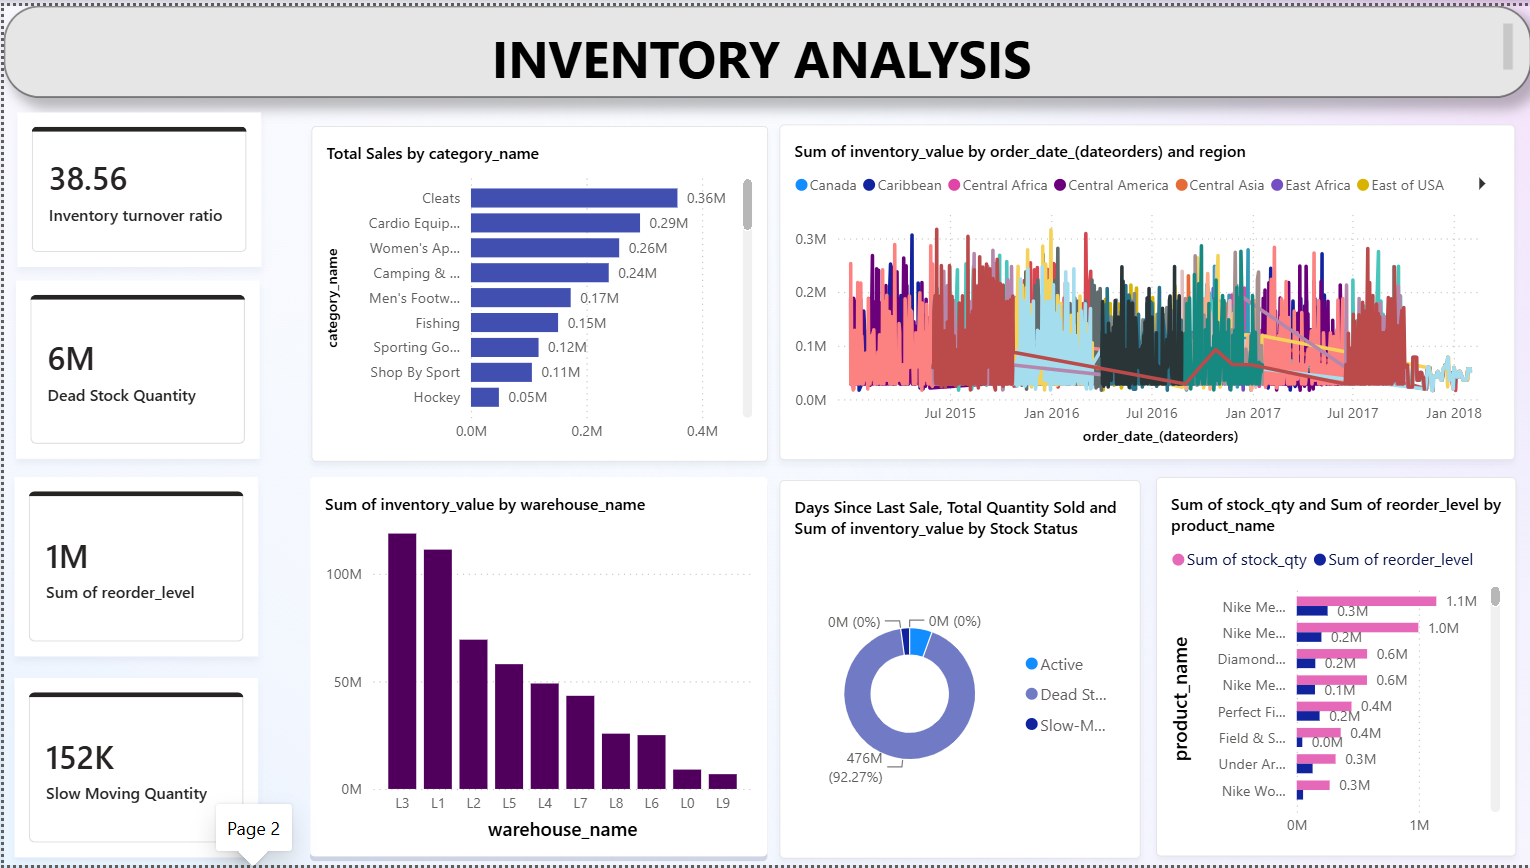

The dashboard page shown, as its layout file describes it:
{"tool":"powerbi","page":{"name":"Page 2","canvas":[1280,720],"ordinal":1},"visuals":[{"type":"textbox","box":[0,0,1279.9,76.7],"z":0},{"type":"cardVisual","fields":{"Data":["Fact_table.Inventory turnover ratio"]},"box":[11.3,89.3,204.9,129.5],"z":1000},{"type":"cardVisual","fields":{"Data":["Fact_table.Dead Stock Quantity"]},"box":[10.1,230.1,204.9,149.6],"z":2000},{"type":"cardVisual","fields":{"Data":["Sum(Fact_table.reorder_level)"]},"box":[8.8,394.8,204.9,150.9],"z":3000},{"type":"cardVisual","fields":{"Data":["Fact_table.Slow Moving Quantity"]},"box":[8.8,563.3,204.9,150.9],"z":4000},{"type":"clusteredBarChart","fields":{"Y":["Fact_table.Total Sales"],"Category":["Fact_table.category_name"]},"box":[257.1,100,382.9,281.4],"z":5000},{"type":"clusteredColumnChart","fields":{"Y":["Sum(Fact_table.inventory_value)"],"Category":["Fact_table.warehouse_name"]},"box":[256.6,395.1,383.4,317.8],"z":6000},{"type":"lineChart","fields":{"Category":["Fact_table.order_date_(dateorders)"],"Y":["Sum(Fact_table.inventory_value)"],"Series":["Dim_Warehouse.region"]},"box":[650.2,99.1,616.7,281.4],"z":7000},{"type":"clusteredBarChart","fields":{"Y":["Sum(Fact_table.stock_qty)","Sum(Fact_table.reorder_level)"],"Category":["Fact_table.product_name"]},"box":[965.1,395.1,301.8,317.8],"z":8000},{"type":"donutChart","fields":{"Category":["Fact_table.Stock Status"],"Y":["Fact_table.Days Since Last Sale","Fact_table.Total Quantity Sold","Sum(Fact_table.inventory_value)"]},"box":[650,397.1,302.9,317.1],"z":9000}]}

Visuals, with their boxes in screenshot pixels (x1, y1, x2, y2), scaled from the page's 1280x720 canvas onto the 1530x868 screenshot:
textbox: bbox(0, 0, 1529, 92)
cardVisual - Fact_table.Inventory turnover ratio: bbox(14, 108, 258, 264)
cardVisual - Fact_table.Dead Stock Quantity: bbox(12, 277, 257, 458)
cardVisual - Sum(Fact_table.reorder_level): bbox(11, 476, 255, 658)
cardVisual - Fact_table.Slow Moving Quantity: bbox(11, 679, 255, 861)
clusteredBarChart - Fact_table.Total Sales x Fact_table.category_name: bbox(307, 121, 765, 460)
clusteredColumnChart - Sum(Fact_table.inventory_value) x Fact_table.warehouse_name: bbox(307, 476, 765, 859)
lineChart - Fact_table.order_date_(dateorders) x Sum(Fact_table.inventory_value): bbox(777, 119, 1514, 459)
clusteredBarChart - Sum(Fact_table.stock_qty) x Sum(Fact_table.reorder_level): bbox(1154, 476, 1514, 859)
donutChart - Fact_table.Stock Status x Fact_table.Days Since Last Sale: bbox(777, 479, 1139, 861)
